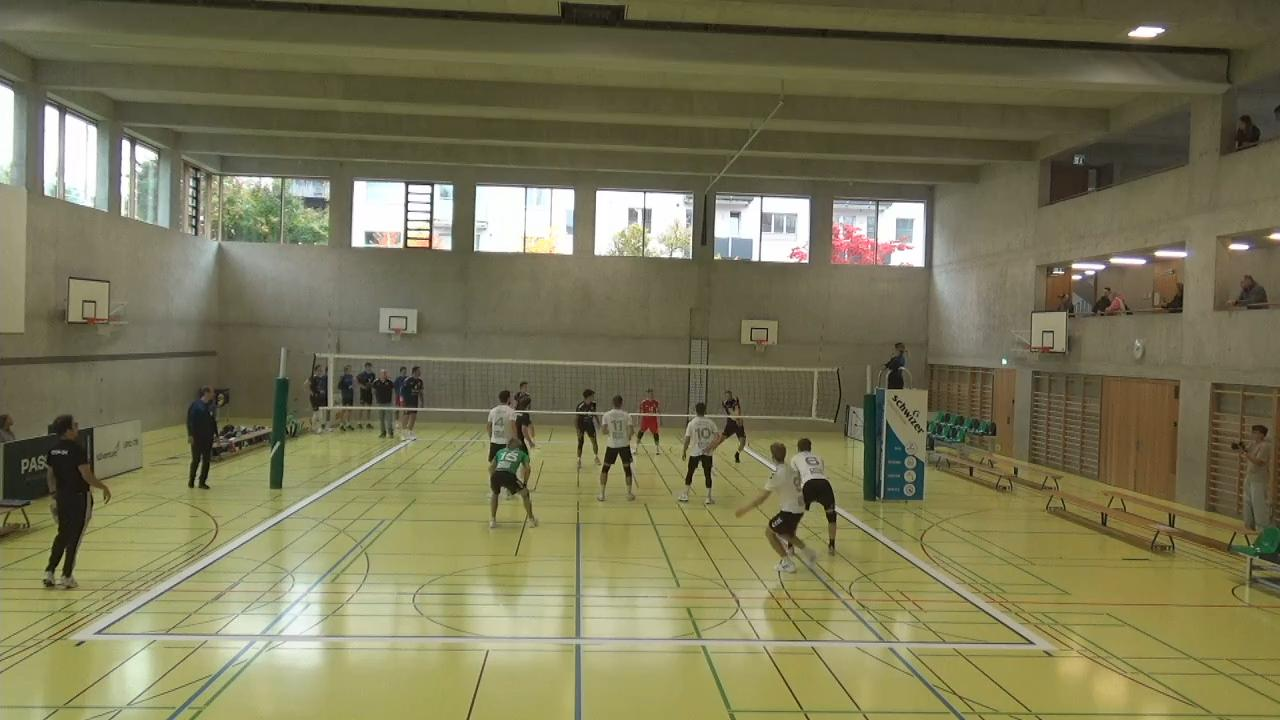Player: (737, 440, 804, 577), (488, 407, 536, 538), (792, 438, 841, 550), (598, 393, 641, 502), (676, 400, 719, 506), (510, 384, 541, 486), (397, 363, 428, 446), (574, 387, 602, 471), (486, 387, 513, 471), (637, 388, 663, 460)
Receive: (720, 384, 747, 468)
ball: (731, 410, 743, 427)
